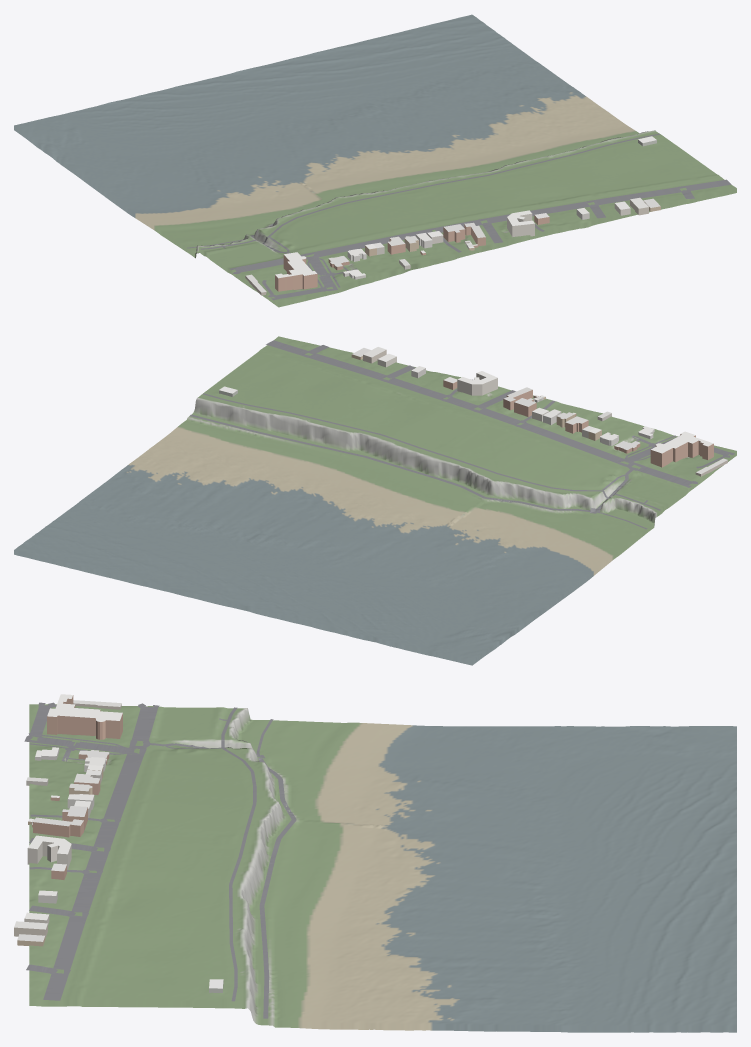
The picture shows the model from 3 angles, top to bottom: view 1: azimuth 30°, elevation 25°; view 2: azimuth 150°, elevation 25°; view 3: azimuth 270°, elevation 25°; orthographic projection. The views are drawn at different scales.
Parts seen in each view (by area): view 1: prim0, prim1, prim2; view 2: prim0, prim2, prim1; view 3: prim0, prim2, prim1.
Boxes of the visible parts, x1,y1,x2,y2 form: prim0: (14, 14, 736, 307); prim1: (245, 136, 660, 295); prim2: (187, 133, 731, 300); prim0: (14, 336, 736, 665); prim2: (190, 340, 734, 529); prim1: (219, 347, 727, 476); prim0: (29, 704, 736, 1032); prim2: (24, 702, 296, 1018); prim1: (14, 694, 223, 992).
Bounding box in the file's own units: 518 × 41.98 × 523.
